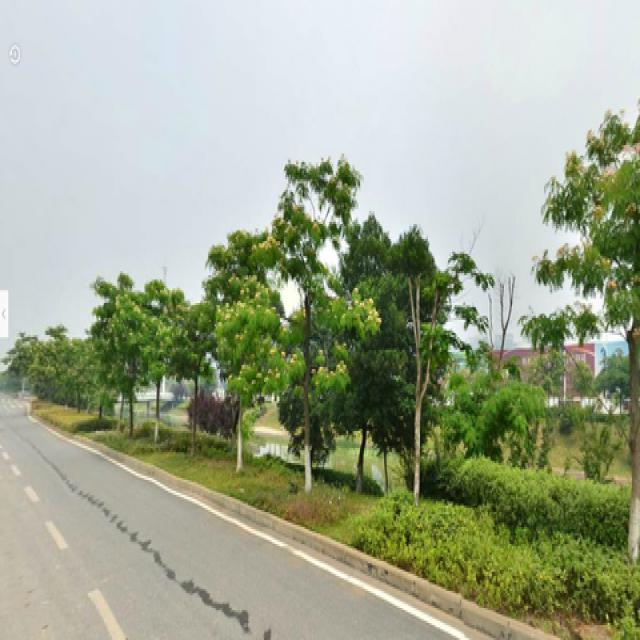albi: (224, 156, 364, 501)
